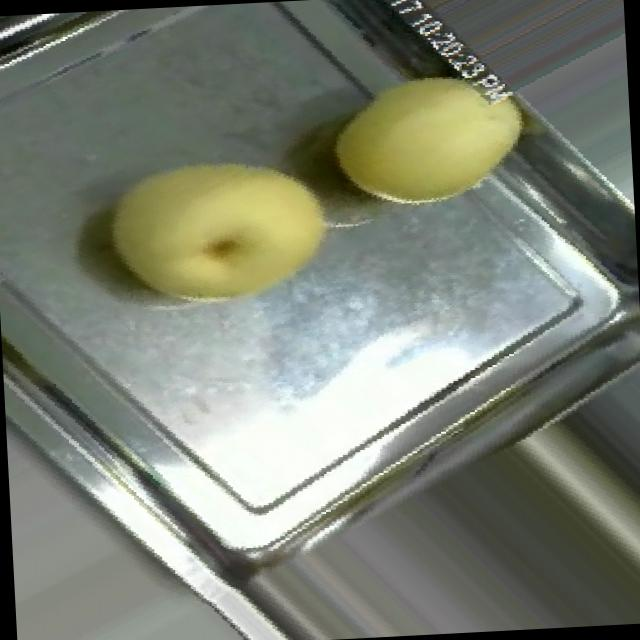Fruit: (68, 115, 356, 342), (306, 38, 556, 228)
